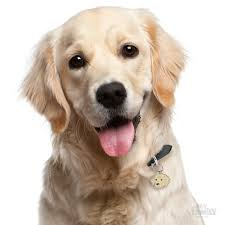Bulldog: (9, 4, 213, 225)
